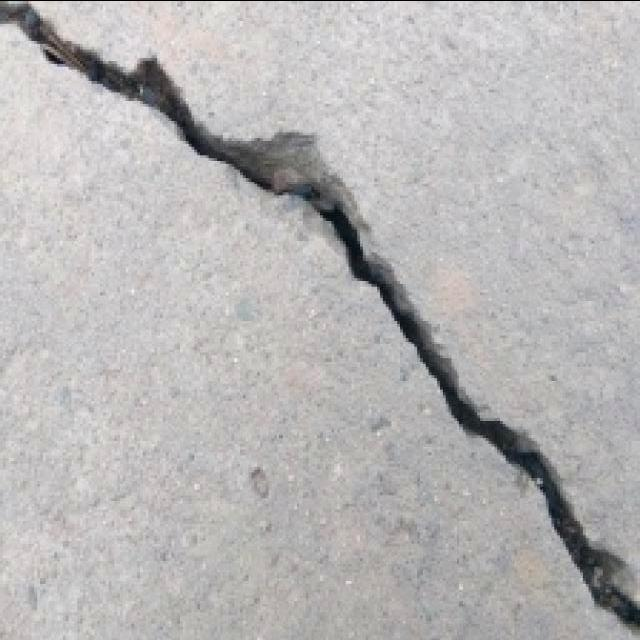SurfaceCrack: (4, 0, 640, 636)
